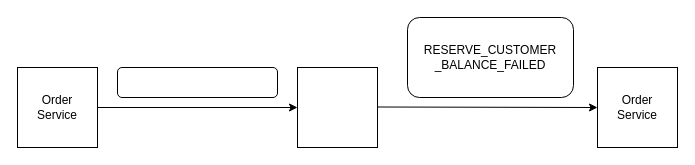
Some shapes in this 695 by 165 pixel diagram are drawn without their labels. Here are the shapes that lost their labels. From the top down, the centre of each, then its label:
At point 197,82: "ORDER_CREATED".
At point 337,107: "Customer Service".
